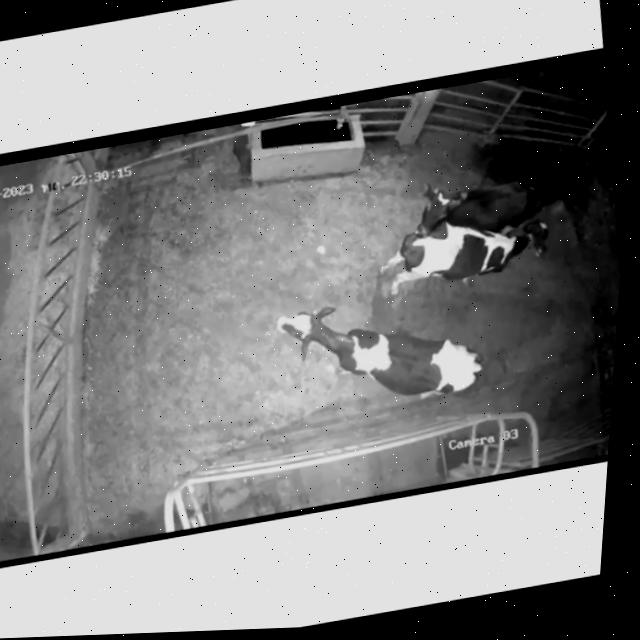propping: (404, 177, 476, 270)
